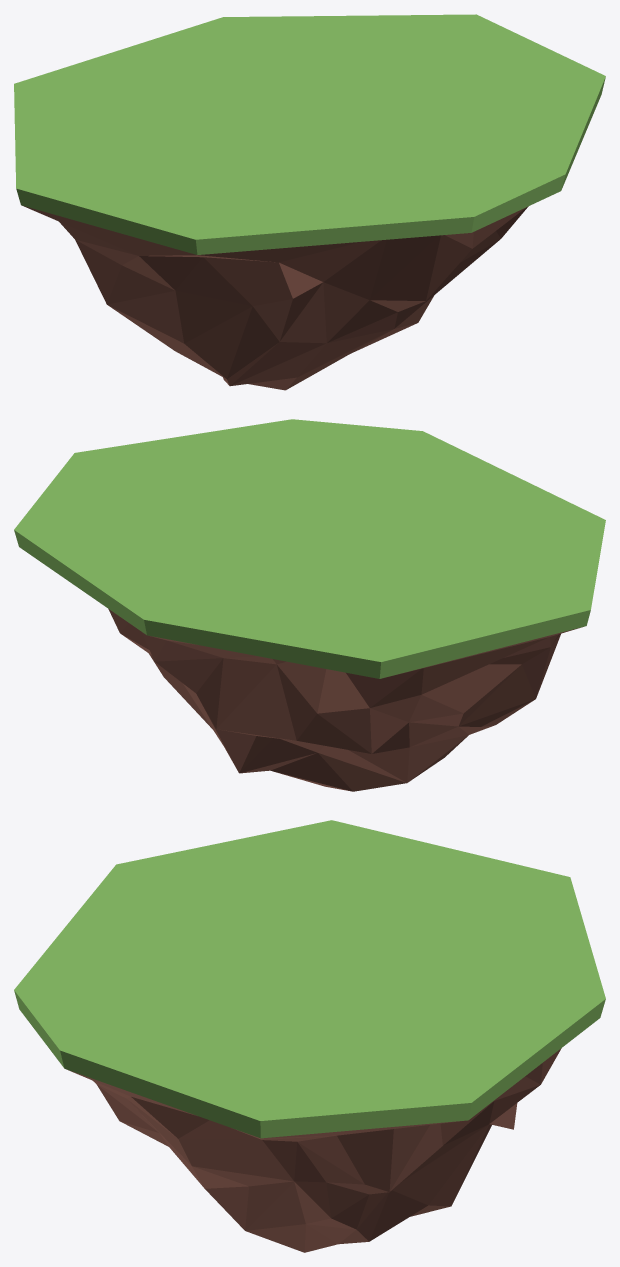
Rendered from Island3.fbx.
3 views of the same model, one above another, from view 1: azimuth 30°, elevation 25°; view 2: azimuth 150°, elevation 25°; view 3: azimuth 270°, elevation 25° (orthographic). The views are drawn at different scales.
Parts seen in each view (by area): view 1: Island3; view 2: Island3; view 3: Island3.
Part boxes in pixels (bbox=[...]): Island3: bbox=[14, 14, 605, 390]; Island3: bbox=[14, 419, 605, 791]; Island3: bbox=[14, 820, 605, 1252].
Bounding box in the file's own units: 6.25 × 2.69 × 5.19.
